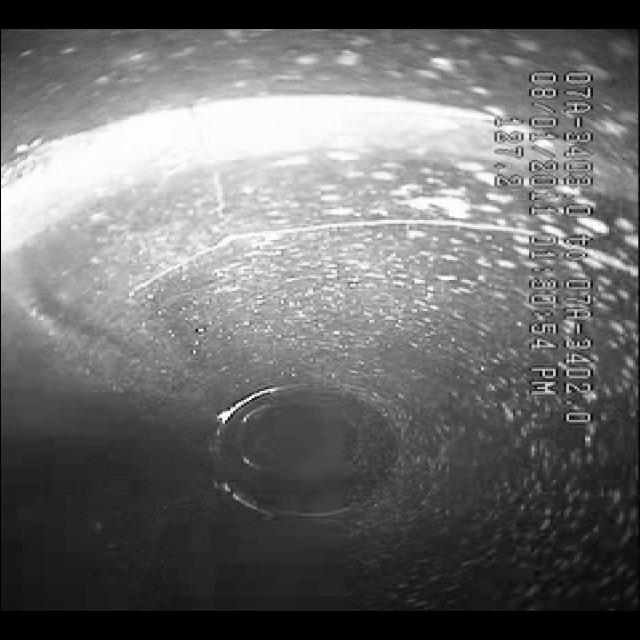Crack: (165, 191, 493, 280)
